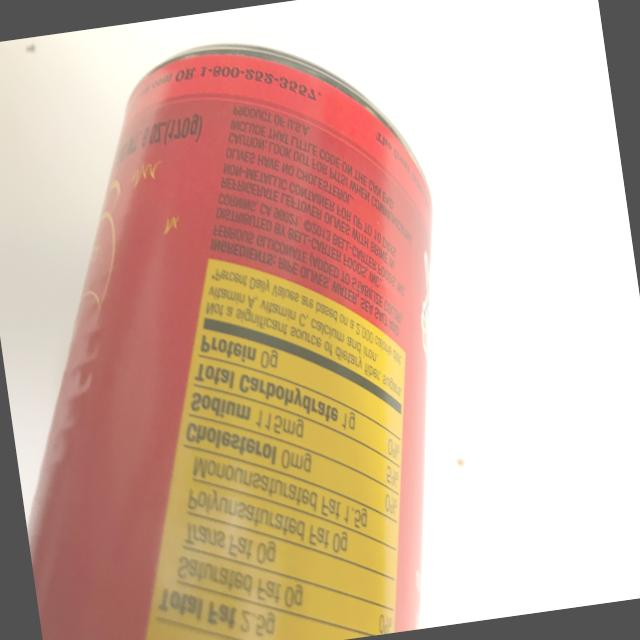Metal: (0, 0, 501, 640)
